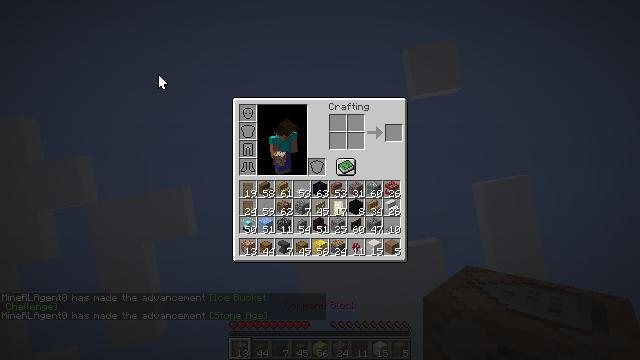cursor: (74, 158, 90, 168)
